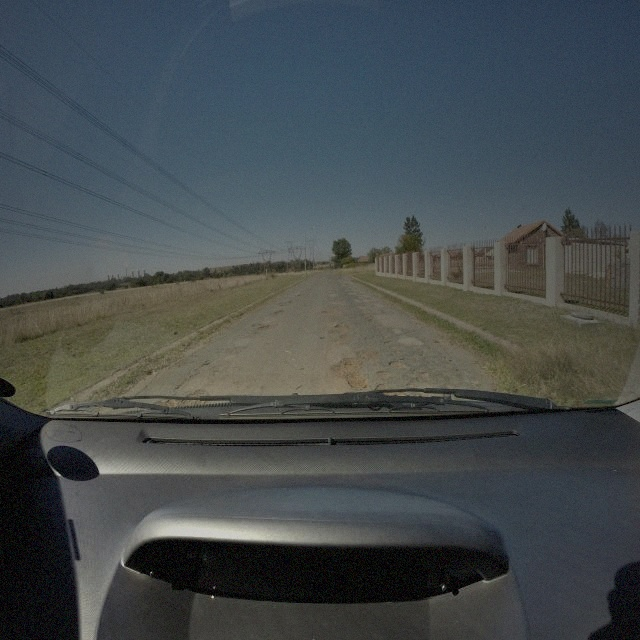pothole: (163, 385, 210, 408), (342, 372, 372, 394), (375, 383, 404, 399), (339, 356, 366, 372), (358, 348, 382, 362), (253, 320, 270, 335), (388, 360, 408, 371), (376, 370, 391, 380), (334, 322, 350, 331), (322, 306, 335, 316), (339, 335, 352, 342), (420, 372, 429, 381), (384, 341, 392, 347), (274, 308, 282, 314)
